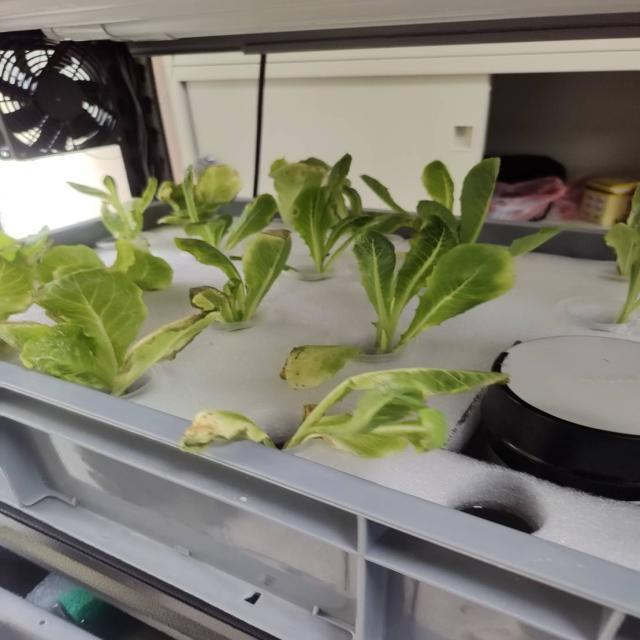Lettuce-Not-Ready-to-Harvest: (2, 268, 218, 395), (353, 201, 515, 354), (285, 368, 507, 458), (292, 154, 403, 272), (70, 176, 172, 290), (175, 229, 292, 322), (0, 228, 103, 321), (183, 194, 277, 251), (157, 165, 242, 224), (605, 188, 640, 324), (270, 158, 330, 226), (180, 410, 273, 452), (458, 158, 500, 244), (280, 345, 362, 389), (508, 226, 565, 256), (362, 175, 407, 213), (422, 160, 453, 210)
